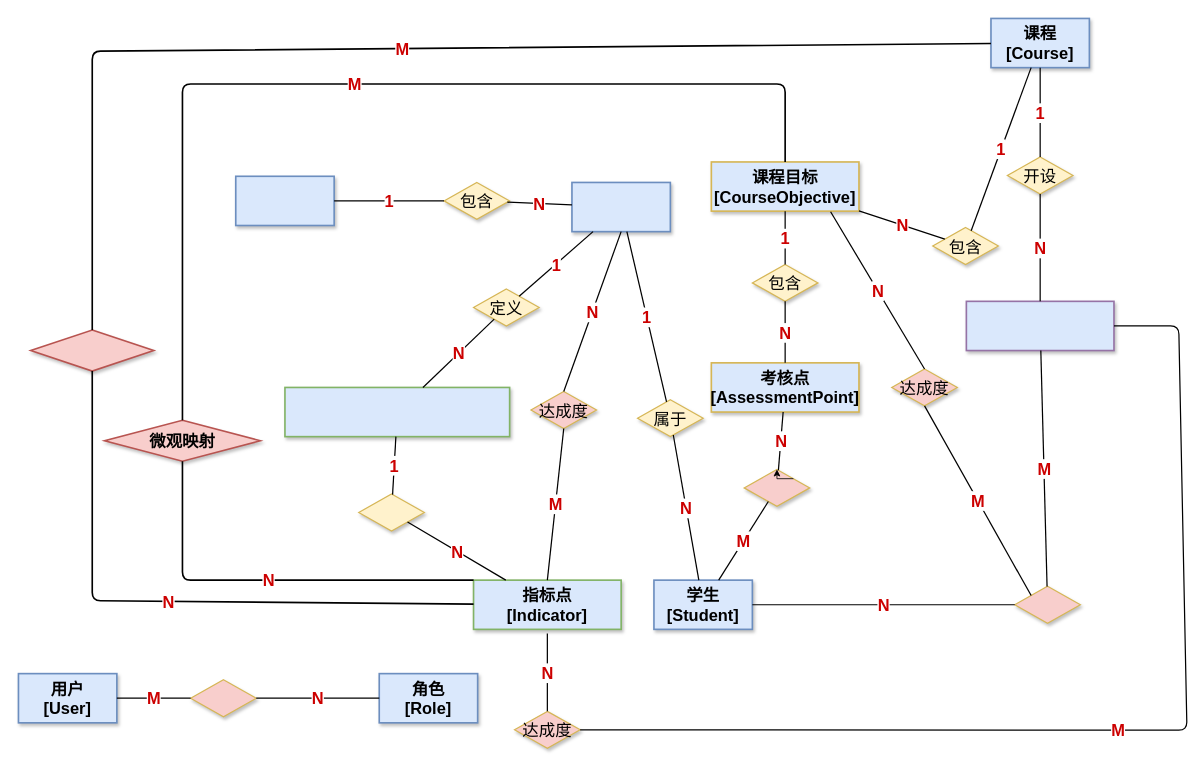
This 1202x768 diagram has some shape labels left out. The centre of each missing label's shape, as x and y in pixels:
专业 [Major]: point (621, 208)
学院 [College]: point (285, 202)
宏观支撑: point (92, 351)
成绩: point (777, 488)
拥有: point (223, 699)
教学班级 [TeachingClass]: point (1040, 327)
毕业要求 [GraduationRequirement]: point (397, 413)
细分: point (392, 513)
选课: point (1048, 605)
